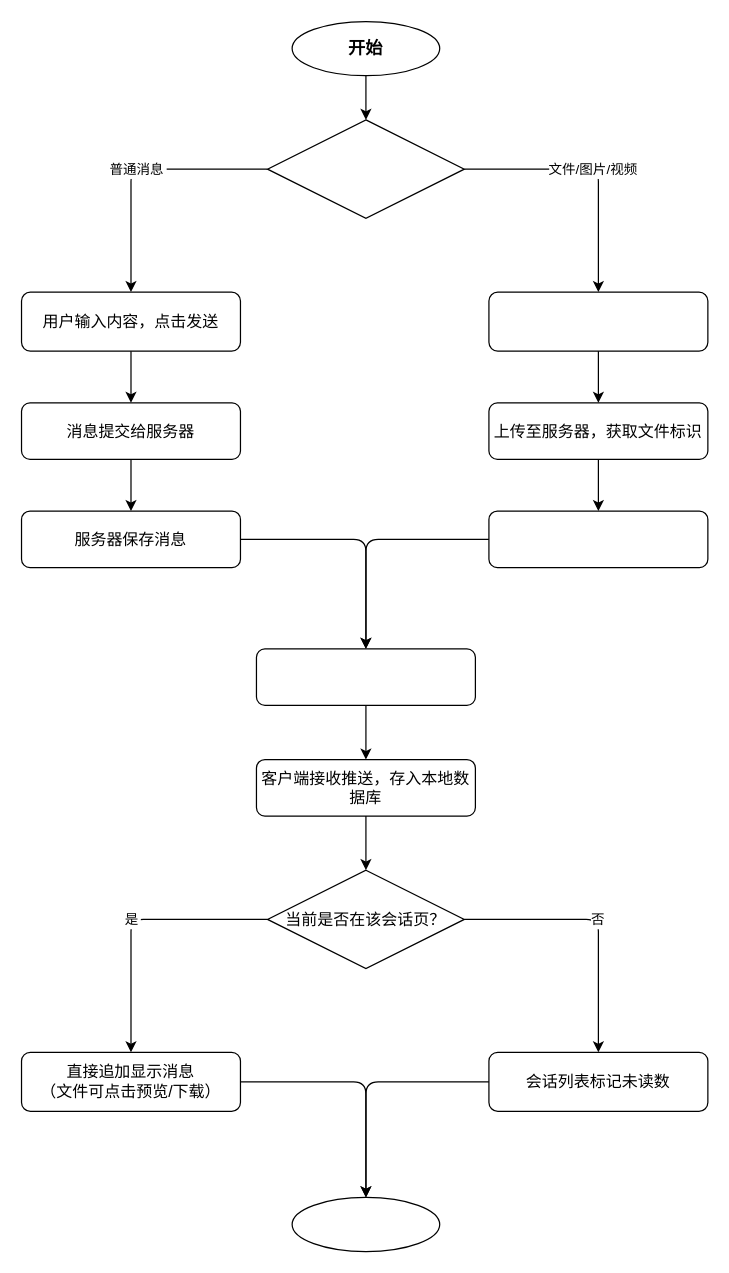
Image size: 729x1273. Some labels were removed from this diagram. Here are the shapes that lost their labels. From the top down, the centre of each, then its label:
At point 365,168: "消息类型？".
At point 598,321: "用户选择文件".
At point 598,539: "将文件标识作为消息内容发送".
At point 365,676: "服务器实时推送给接收方".
At point 365,1224: "结束".
